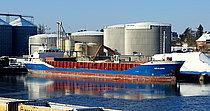Ship: (15, 45, 188, 88)
